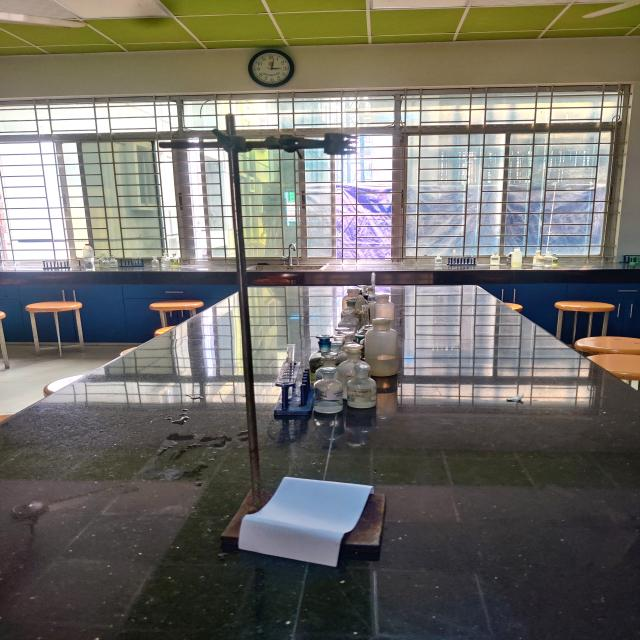Burette_Stands: (139, 115, 391, 576)
